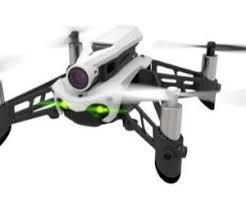Drone: (5, 11, 244, 193)
